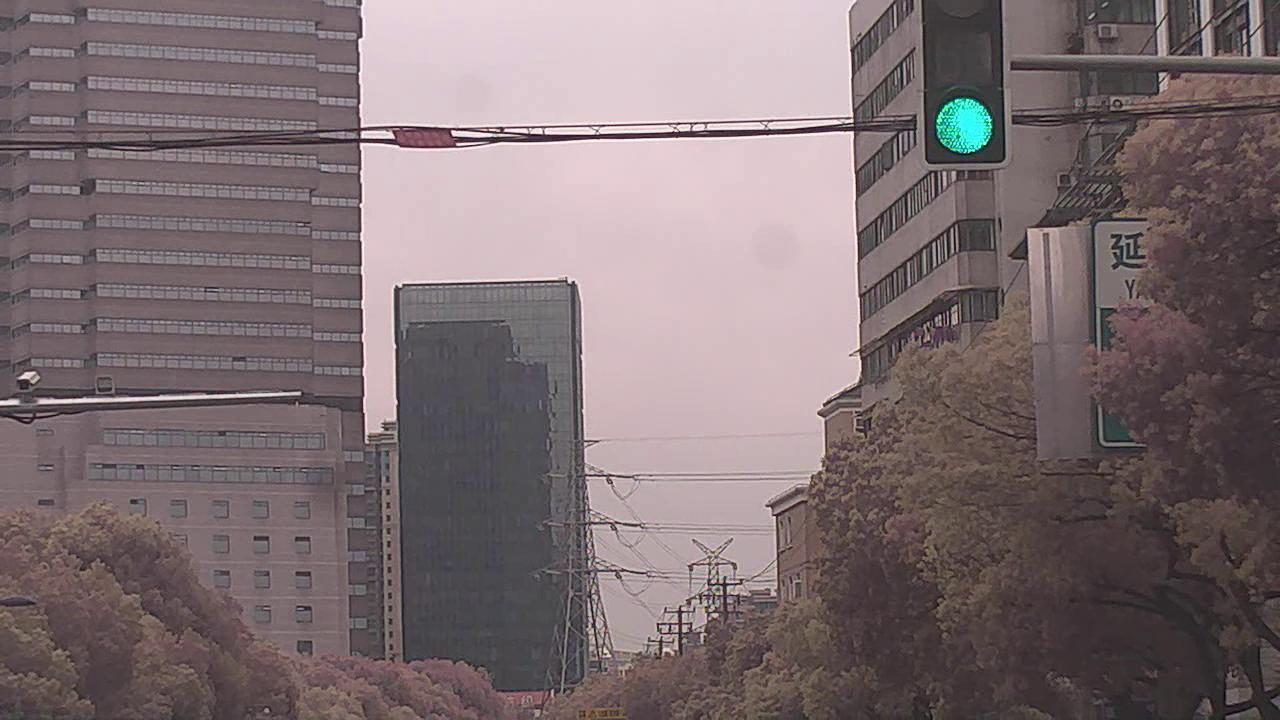traffic_light: (921, 1, 1012, 169)
